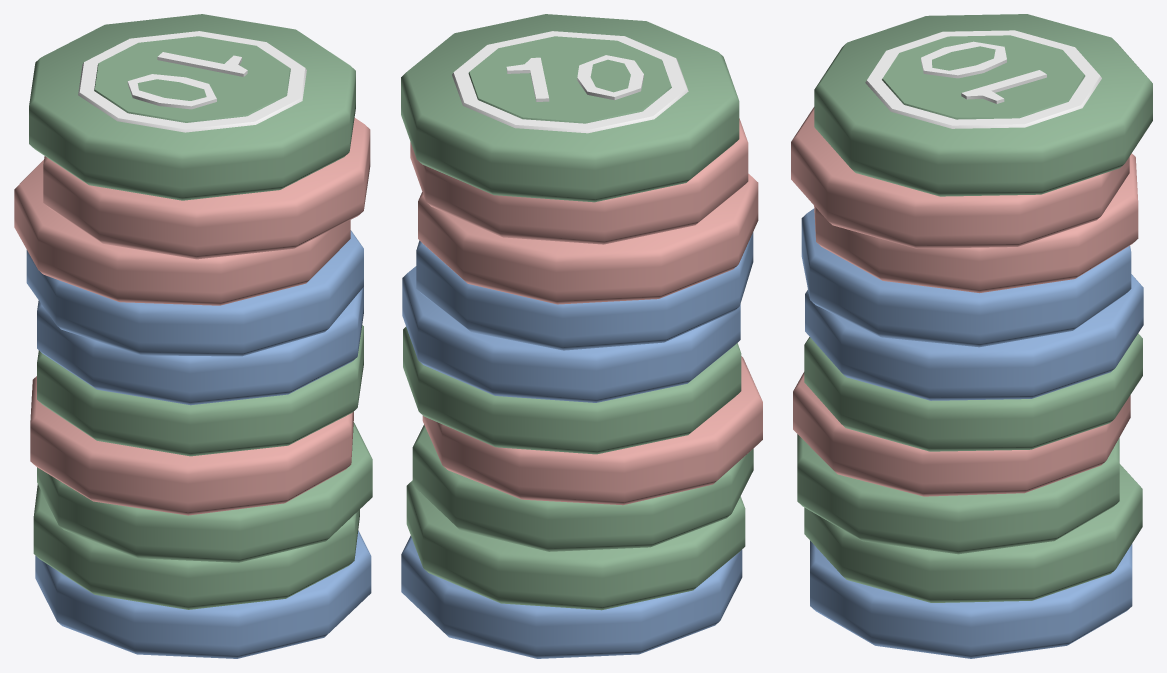
Rendered from stack_body.gltf.
The picture shows the model from 3 angles, left to right: view 1: azimuth 30°, elevation 25°; view 2: azimuth 150°, elevation 25°; view 3: azimuth 270°, elevation 25°; orthographic projection.
Visible parts, largest first — view 1: stack_body-Mat_s_1, stack_body-Mat_s_2, stack_body-Mat_s_3, stack_body-Mat_s_6; view 2: stack_body-Mat_s_1, stack_body-Mat_s_2, stack_body-Mat_s_3, stack_body-Mat_s_6; view 3: stack_body-Mat_s_1, stack_body-Mat_s_3, stack_body-Mat_s_2, stack_body-Mat_s_6.
Boxes of the visible parts, bbox=[...] form: stack_body-Mat_s_1: bbox=[29, 14, 372, 609]; stack_body-Mat_s_2: bbox=[14, 118, 370, 515]; stack_body-Mat_s_3: bbox=[26, 230, 371, 658]; stack_body-Mat_s_6: bbox=[78, 31, 306, 132]; stack_body-Mat_s_1: bbox=[401, 14, 753, 610]; stack_body-Mat_s_2: bbox=[410, 118, 762, 505]; stack_body-Mat_s_3: bbox=[401, 232, 753, 658]; stack_body-Mat_s_6: bbox=[452, 31, 688, 133]; stack_body-Mat_s_1: bbox=[797, 14, 1152, 602]; stack_body-Mat_s_3: bbox=[801, 208, 1143, 658]; stack_body-Mat_s_2: bbox=[791, 107, 1138, 496]; stack_body-Mat_s_6: bbox=[865, 30, 1101, 128].
Size of the model in its own units: 186 by 293 by 187.
